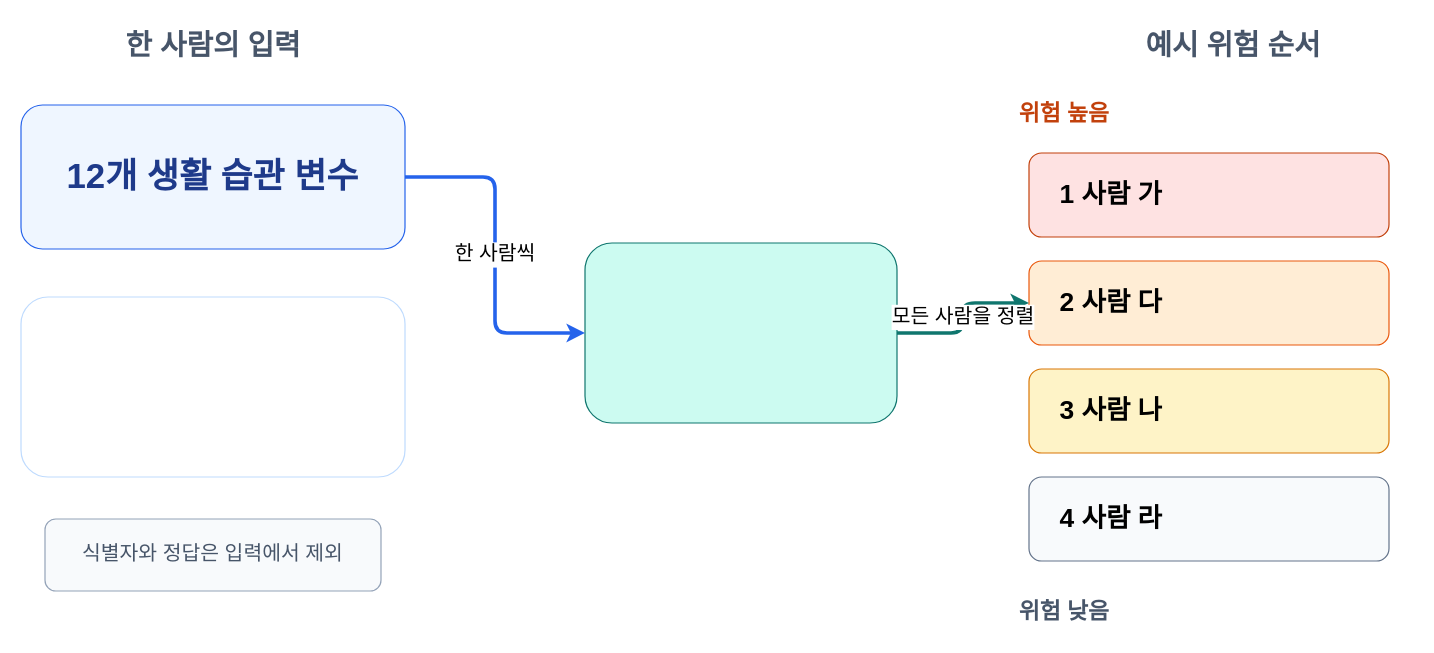
Image size: 1434x653. Some labels were removed from this diagram. The centre of each missing label's shape, as x and y in pixels:
"나이 · 화면 사용 · 수면 · 알림 사회관계망 · 게임 · 업무와 학업 성별 · 스트레스 · 학업 영향" belongs at point 212,386.
"중독 위험도 0부터 1 사이" belongs at point 740,332.
